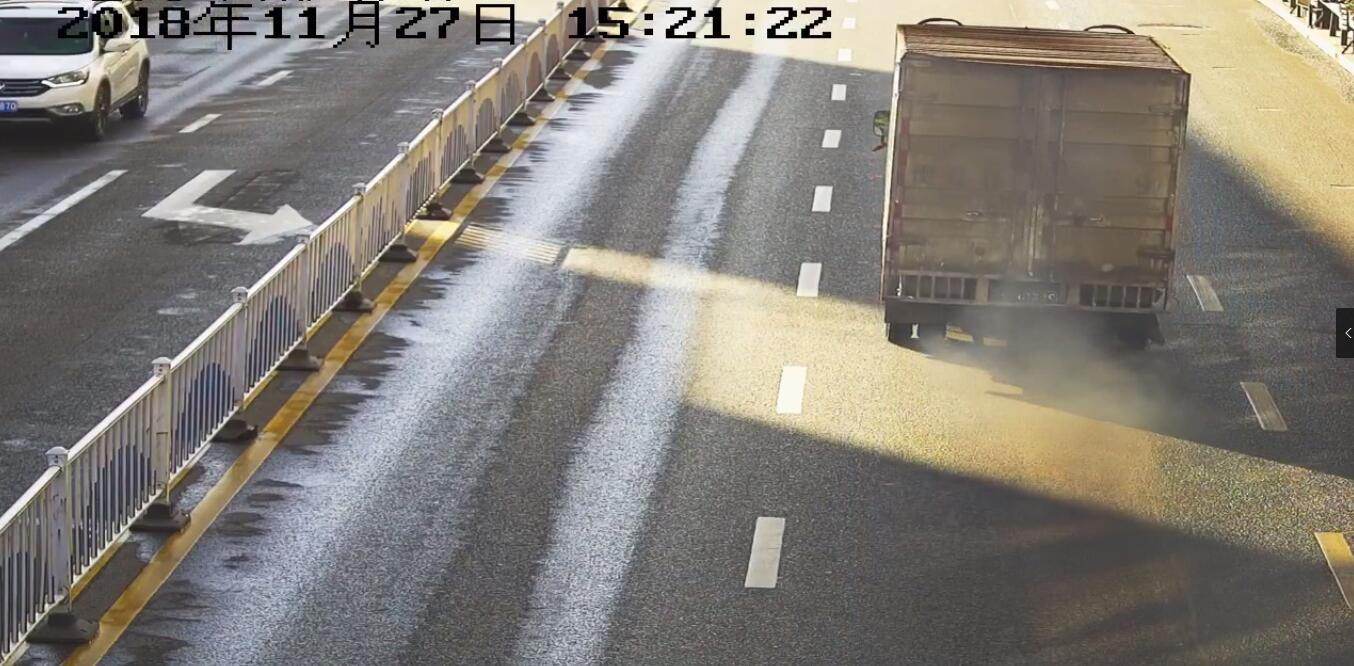smoke: (979, 302, 1159, 430)
